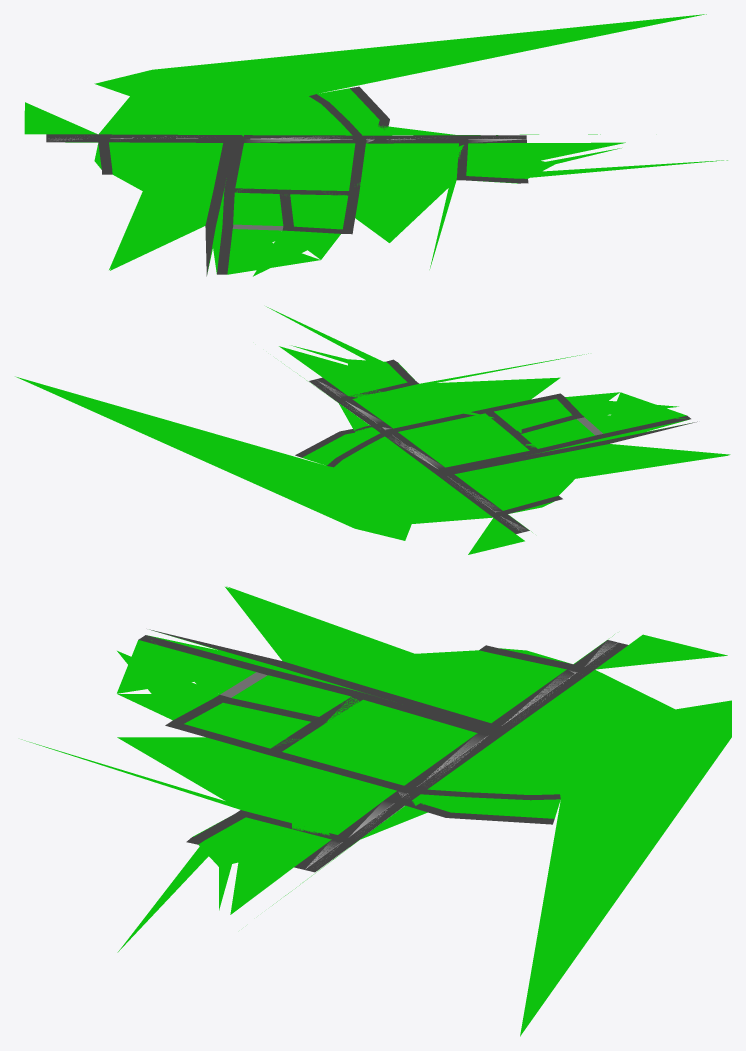
3 views of the same model, one above another, from view 1: azimuth 30°, elevation 25°; view 2: azimuth 150°, elevation 25°; view 3: azimuth 270°, elevation 25° (orthographic). The views are drawn at different scales.
Bounding box in the file's own units: 312 × 0.001 × 210.
